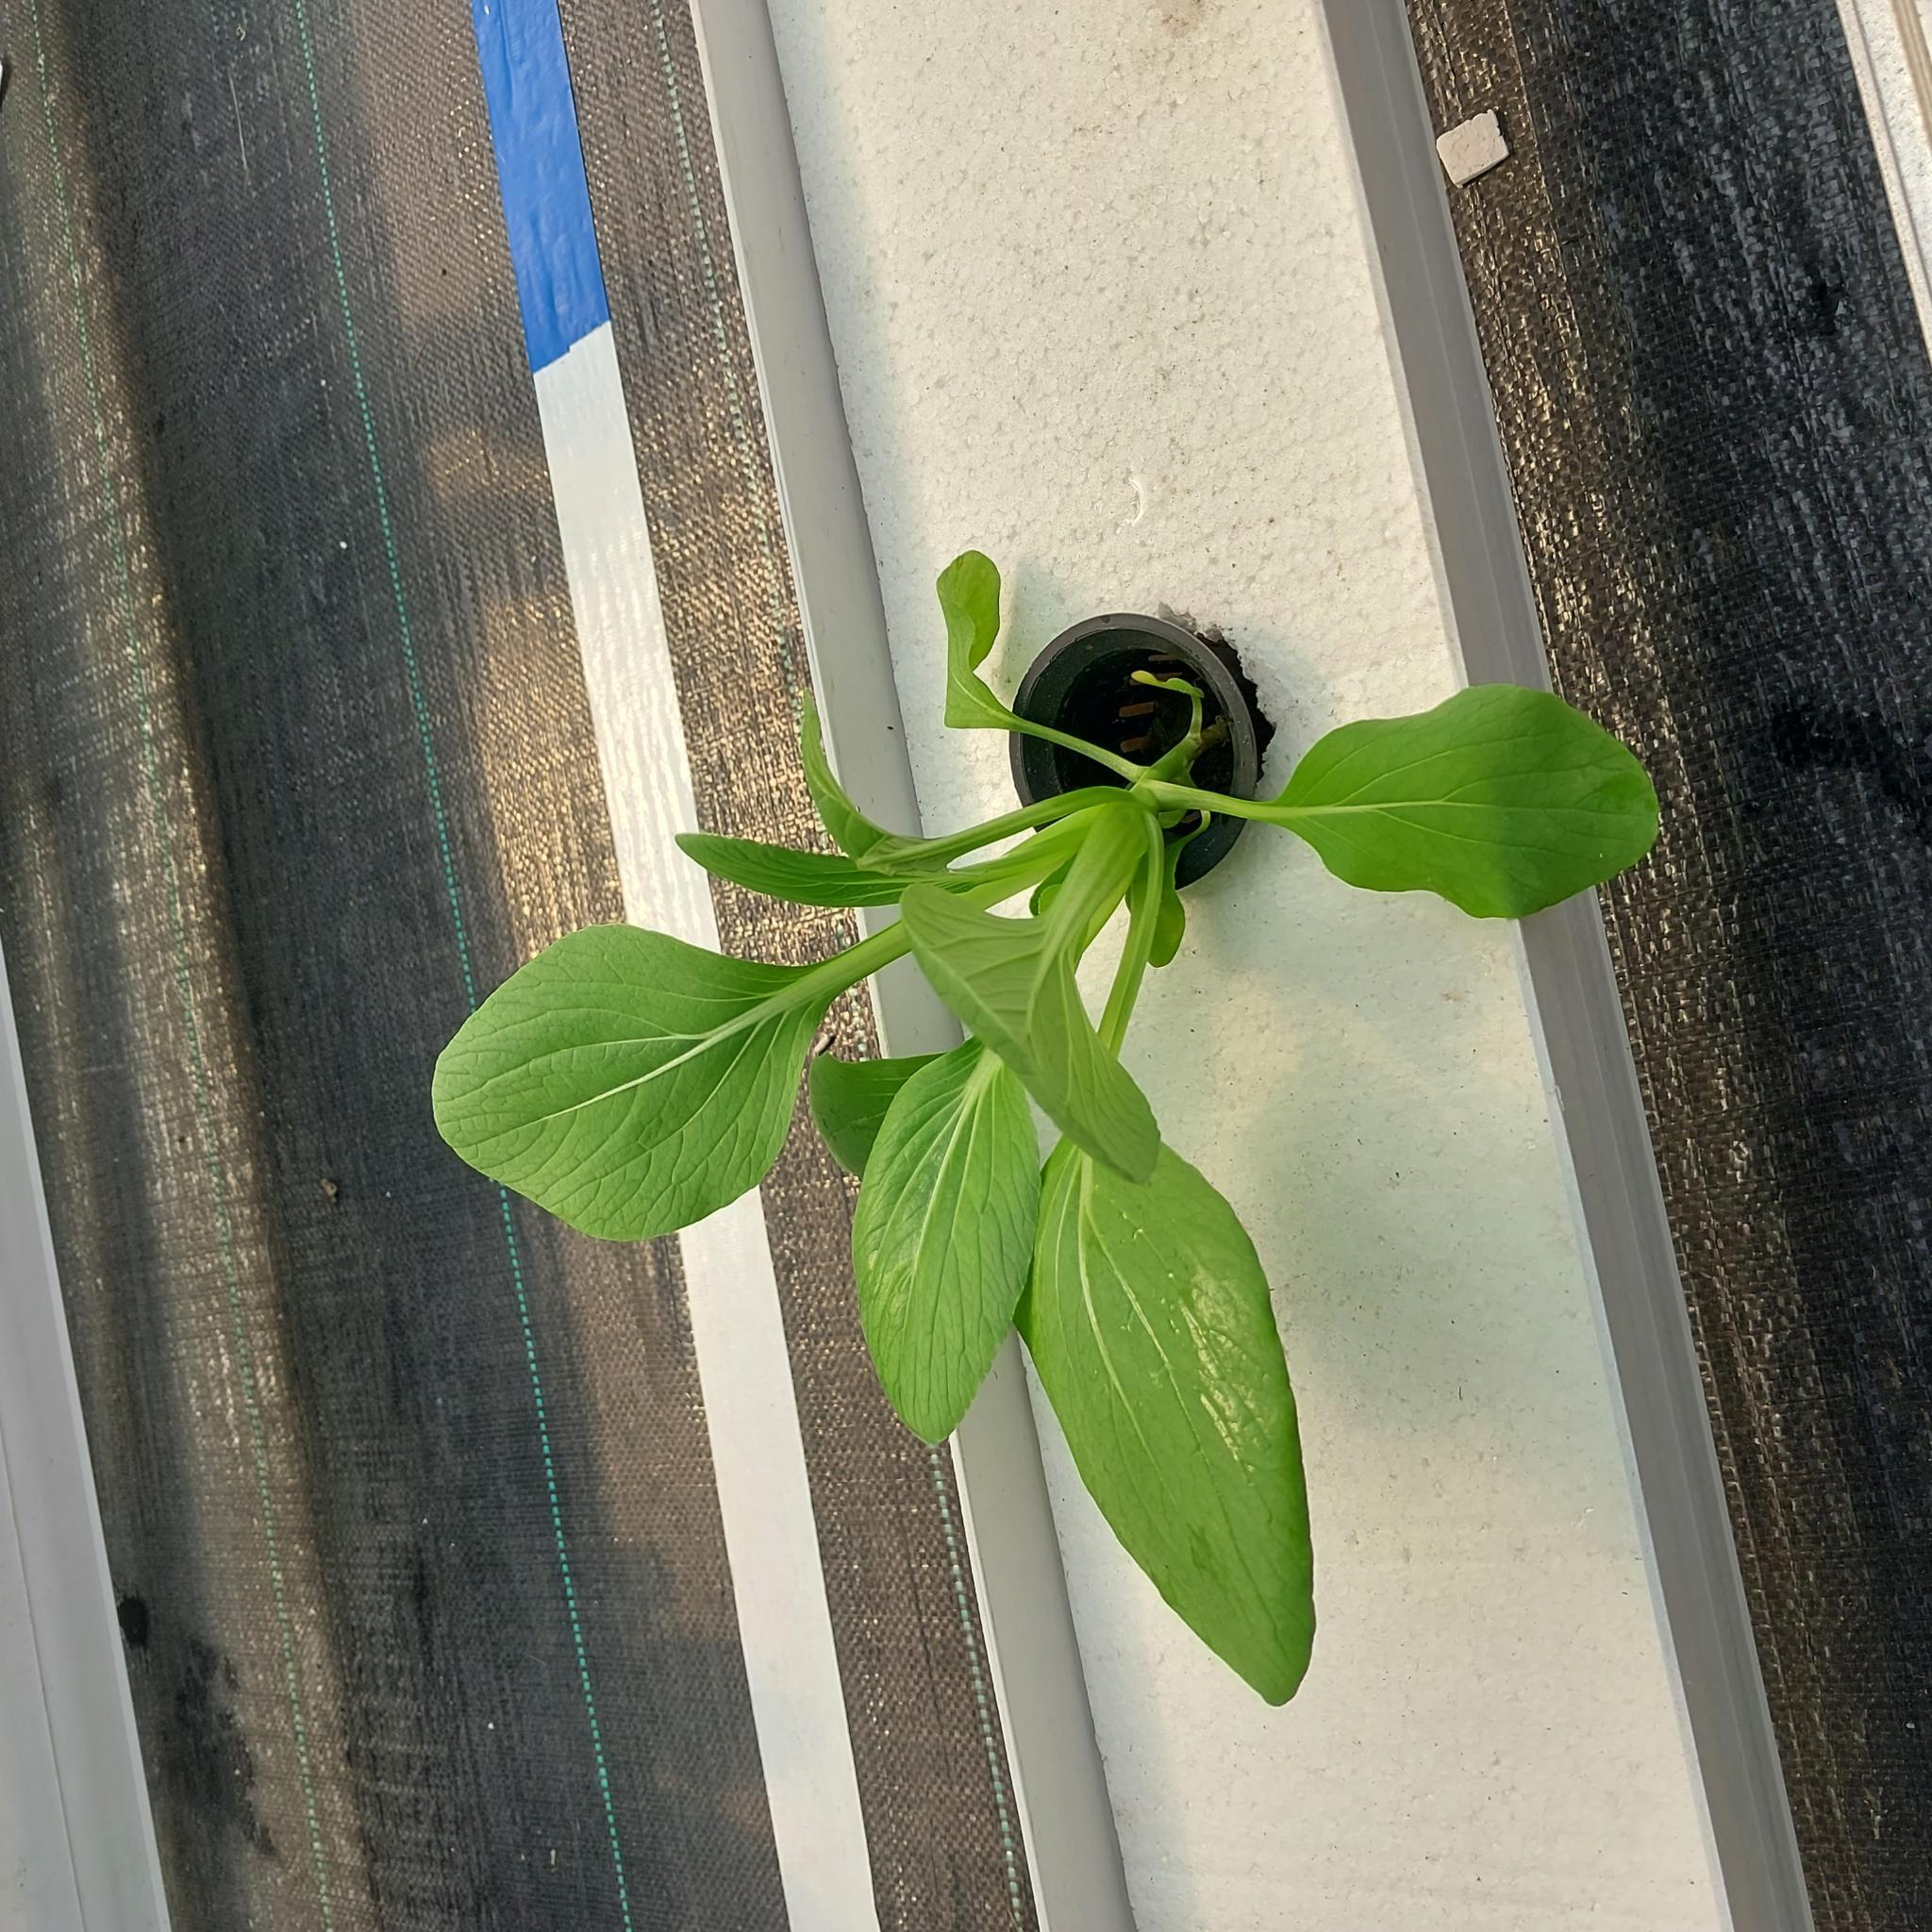Healthy-Pechay: (1031, 1104, 1315, 1721), (428, 924, 879, 1244), (1231, 686, 1661, 915), (897, 805, 1148, 1185), (844, 1026, 1033, 1435), (1062, 1157, 1161, 1504)
